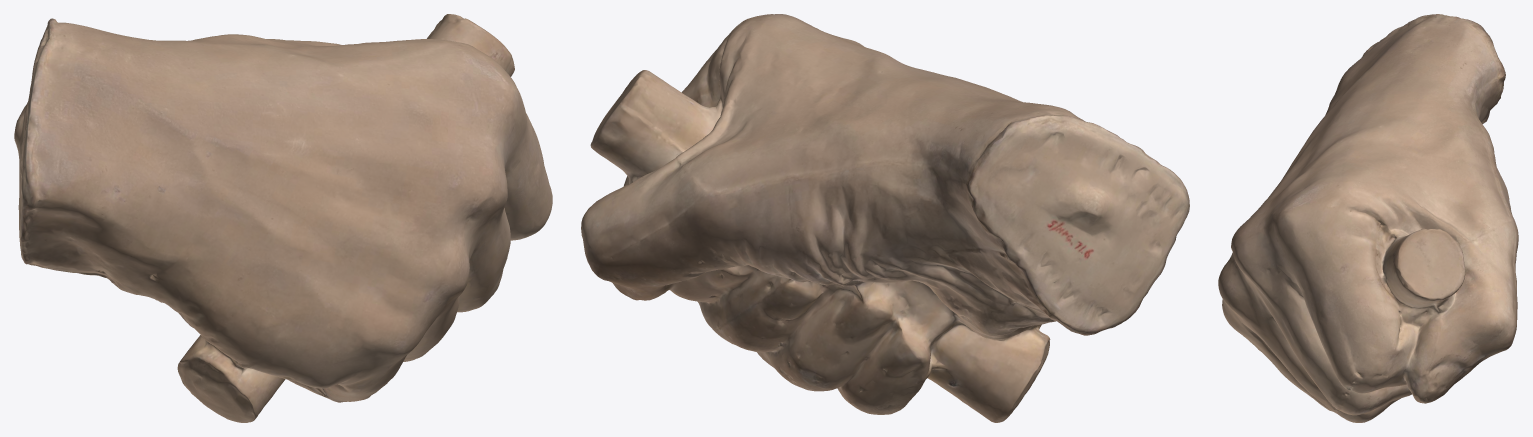
Rendered from npg_71_6_right-hires_unwrapped-50k-2048_draco.glb.
The picture shows the model from 3 angles, left to right: view 1: azimuth 30°, elevation 25°; view 2: azimuth 150°, elevation 25°; view 3: azimuth 270°, elevation 25°; orthographic projection. The views are drawn at different scales.
Size of the model in its own units: 169 by 115 by 103.
1 material, 1 textured.
